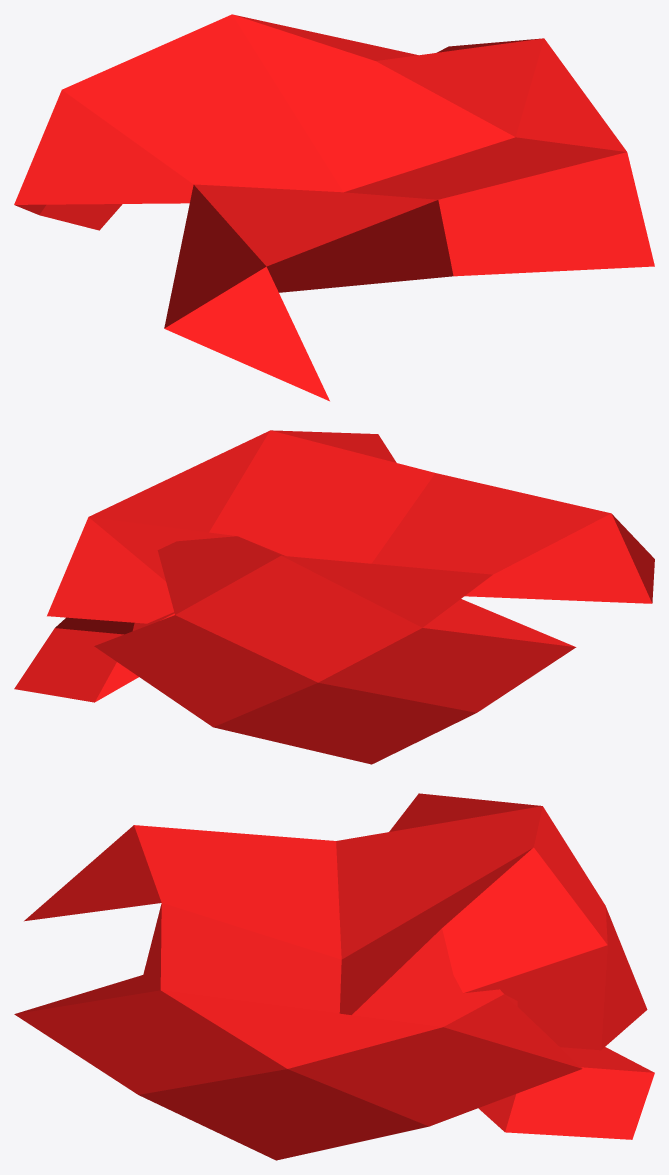
The model's file is TrashFlag.fbx.
The picture shows the model from 3 angles, top to bottom: view 1: azimuth 30°, elevation 25°; view 2: azimuth 150°, elevation 25°; view 3: azimuth 270°, elevation 25°; orthographic projection. The views are drawn at different scales.
Parts seen in each view (by area): view 1: Plane029; view 2: Plane029; view 3: Plane029.
Part boxes in pixels (box(x1,y1,x2,y2)): Plane029: box(14, 14, 654, 401); Plane029: box(14, 430, 654, 764); Plane029: box(14, 793, 654, 1160).
Size of the model in its own units: 92.41 by 32.85 by 95.81.
